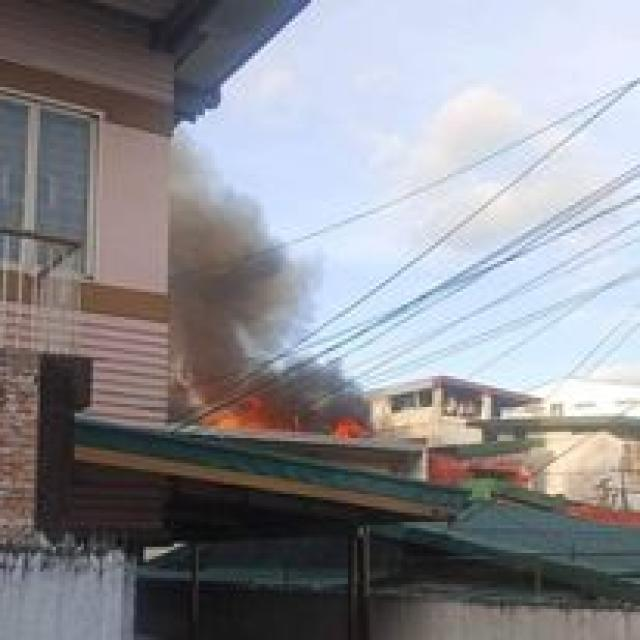Fire: (200, 392, 378, 442)
Smoke: (178, 160, 356, 407)
